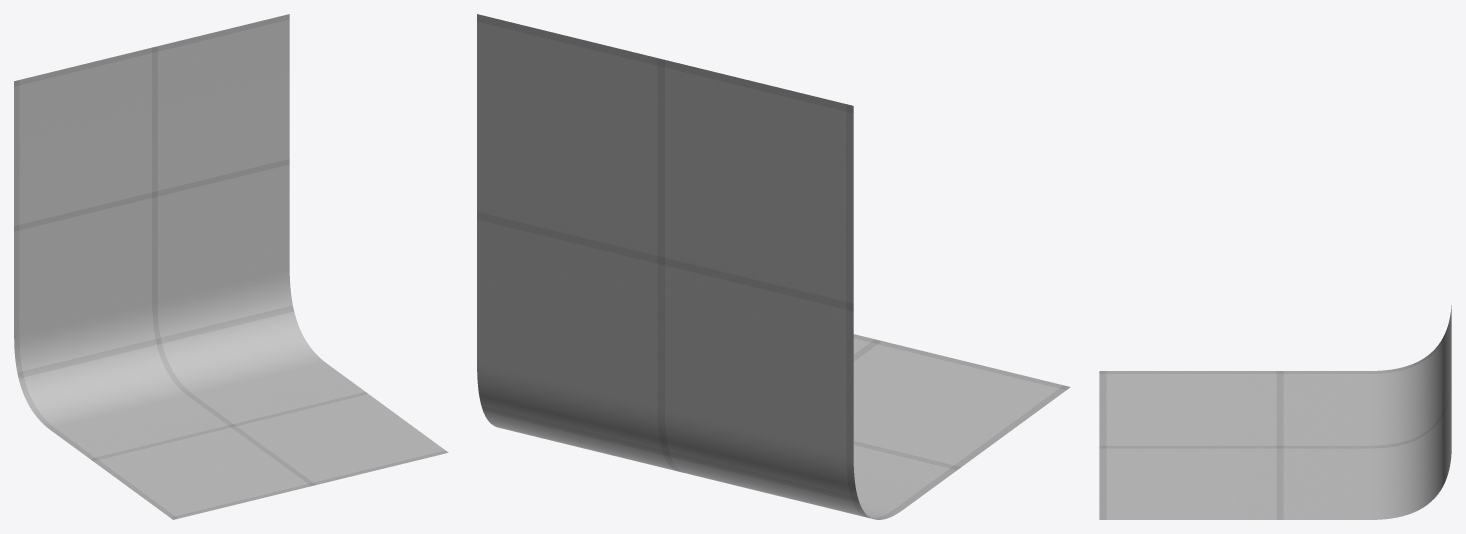
File: SM_Showroom02.FBX
3 views of the same model, side by side, from view 1: azimuth 30°, elevation 25°; view 2: azimuth 150°, elevation 25°; view 3: azimuth 270°, elevation 25° (orthographic). The views are drawn at different scales.
Parts seen in each view (by area): view 1: SM_Showroom02; view 2: SM_Showroom02; view 3: SM_Showroom02.
Part boxes in pixels (box(x1,y1,x2,y2)): SM_Showroom02: box(14, 14, 448, 519); SM_Showroom02: box(477, 14, 1070, 519); SM_Showroom02: box(1099, 305, 1451, 519).
Size of the model in its own units: 1000 by 1000 by 1117.
